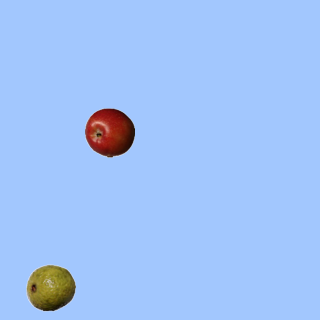Apple Braeburn: (84, 107, 134, 157)
Guava: (25, 262, 75, 312)
